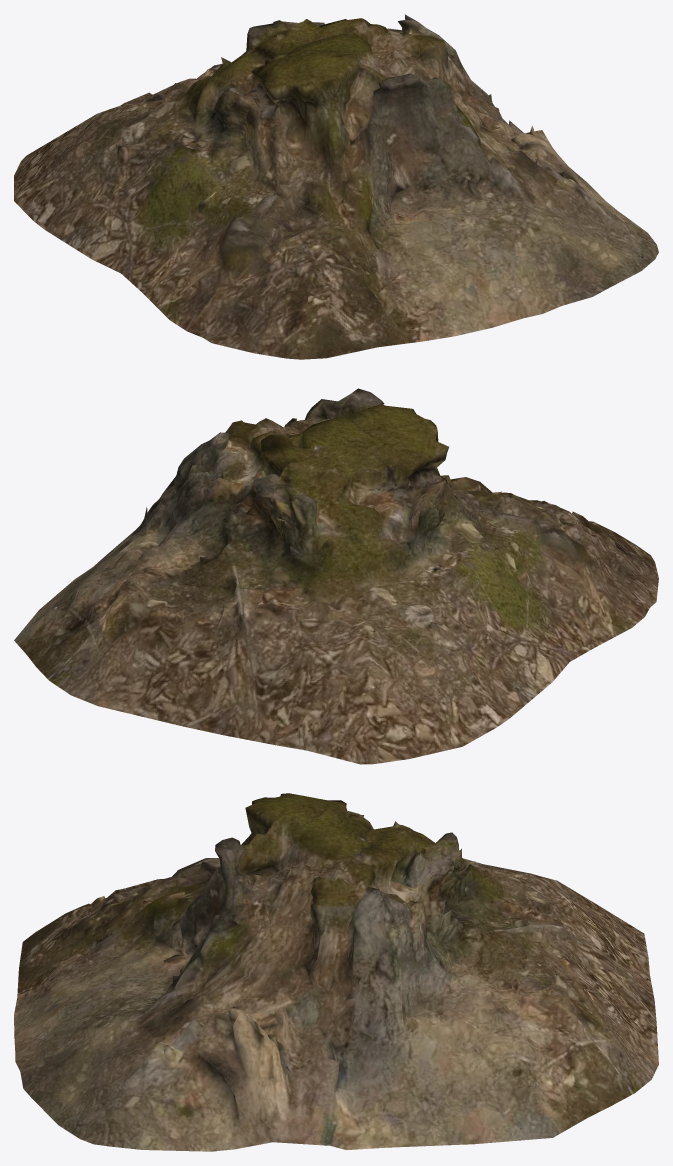
File: tree_stump.glb
The picture shows the model from 3 angles, top to bottom: view 1: azimuth 30°, elevation 25°; view 2: azimuth 150°, elevation 25°; view 3: azimuth 270°, elevation 25°; orthographic projection. The views are drawn at different scales.
Visible parts, largest first — view 1: tree_stump_01; view 2: tree_stump_01; view 3: tree_stump_01.
Boxes of the visible parts, x1,y1,x2,y2 form: tree_stump_01: (14,14,658,359); tree_stump_01: (14,388,658,764); tree_stump_01: (14,793,658,1151).
Size of the model in its own units: 1.43 by 0.571 by 1.59.
Materials: 1 (1 with a texture image).
